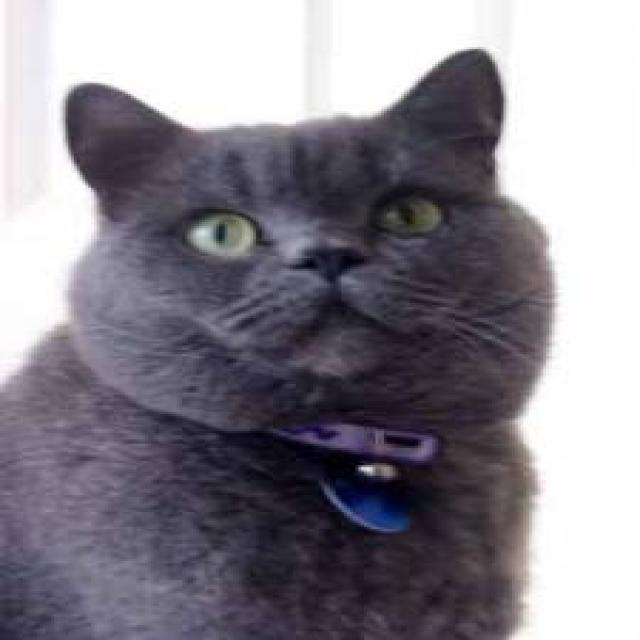British_Shorthair: (52, 43, 561, 445)
